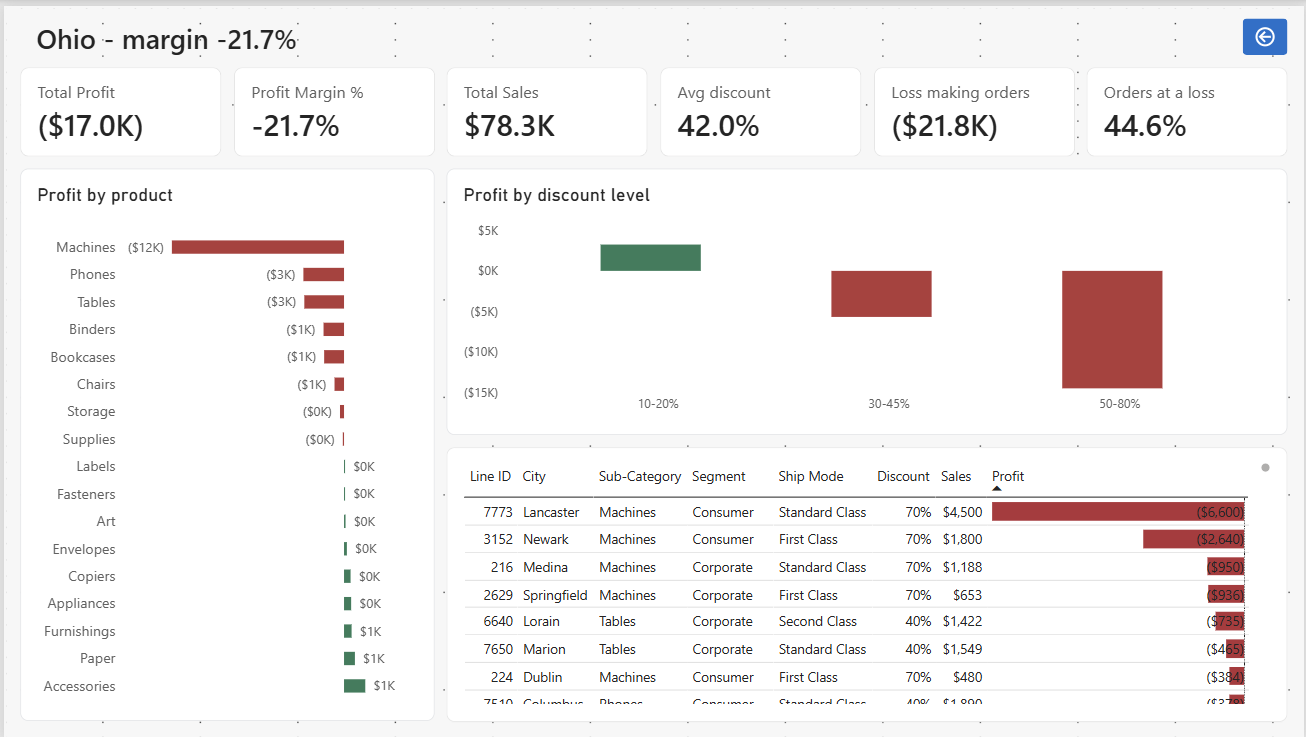

Layout of this report page (visuals, bound fields, positions):
{"tool":"powerbi","page":{"name":"Location Detail","canvas":[1280,720],"ordinal":3},"visuals":[{"type":"actionButton","box":[1220,12,44,36],"z":0},{"type":"cardVisual","fields":{"Data":["_Measures.Location Title"]},"box":[16,8,900,44],"z":1000},{"type":"cardVisual","fields":{"Data":["_Measures.Total Profit"]},"box":[16,60,198,88],"z":2000},{"type":"cardVisual","fields":{"Data":["_Measures.Profit Margin %"]},"box":[226,60,198,88],"z":3000},{"type":"cardVisual","fields":{"Data":["_Measures.Total Sales"]},"box":[436,60,198,88],"z":4000},{"type":"cardVisual","fields":{"Data":["_Measures.Weighted Discount %"]},"box":[646,60,198,88],"z":5000},{"type":"cardVisual","fields":{"Data":["_Measures.Loss Value"]},"box":[856,60,198,88],"z":6000},{"type":"cardVisual","fields":{"Data":["_Measures.Loss Line %"]},"box":[1066,60,198,88],"z":7000},{"type":"tableEx","title":"Loss-making orders","fields":{"Values":["Superstore.Line ID","Superstore.City","Superstore.Sub-Category","Superstore.Segment","Superstore.Ship Mode","Superstore.Discount","Superstore.Sales","Superstore.Profit"]},"box":[436,434,828,270],"z":8000},{"type":"clusteredBarChart","title":"Profit by product","fields":{"Category":["Superstore.Sub-Category"],"Y":["_Measures.Total Profit"]},"box":[16,160,408,544],"z":9000},{"type":"clusteredColumnChart","title":"Profit by discount level","fields":{"Category":["Superstore.Discount Band"],"Y":["_Measures.Total Profit"]},"box":[436,160,828,262],"z":10000}]}

Visuals, with their boxes in screenshot pixels (x1, y1, x2, y2), scaled from the page's 1280x720 canvas onto the 1306x737 screenshot:
actionButton: select_region(1245, 12, 1290, 49)
cardVisual - _Measures.Location Title: select_region(16, 8, 935, 53)
cardVisual - _Measures.Total Profit: select_region(16, 61, 218, 151)
cardVisual - _Measures.Profit Margin %: select_region(231, 61, 433, 151)
cardVisual - _Measures.Total Sales: select_region(445, 61, 647, 151)
cardVisual - _Measures.Weighted Discount %: select_region(659, 61, 861, 151)
cardVisual - _Measures.Loss Value: select_region(873, 61, 1075, 151)
cardVisual - _Measures.Loss Line %: select_region(1088, 61, 1290, 151)
"Loss-making orders" tableEx: select_region(445, 444, 1290, 721)
"Profit by product" clusteredBarChart: select_region(16, 164, 433, 721)
"Profit by discount level" clusteredColumnChart: select_region(445, 164, 1290, 432)
